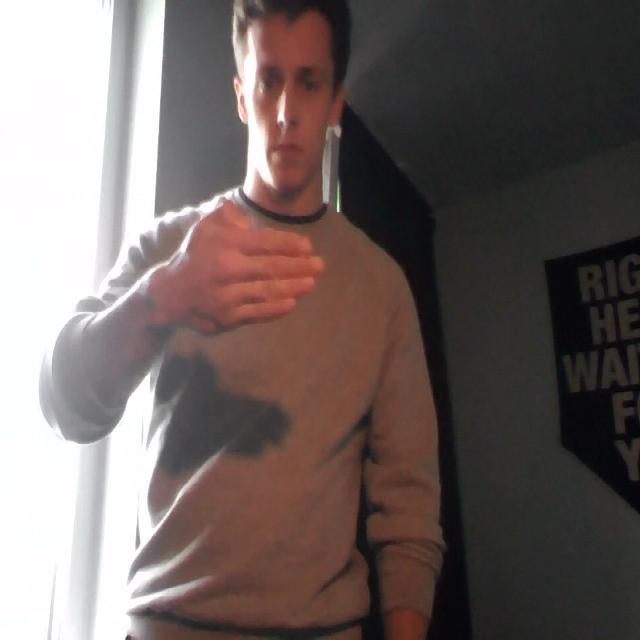right: (161, 194, 342, 347)
